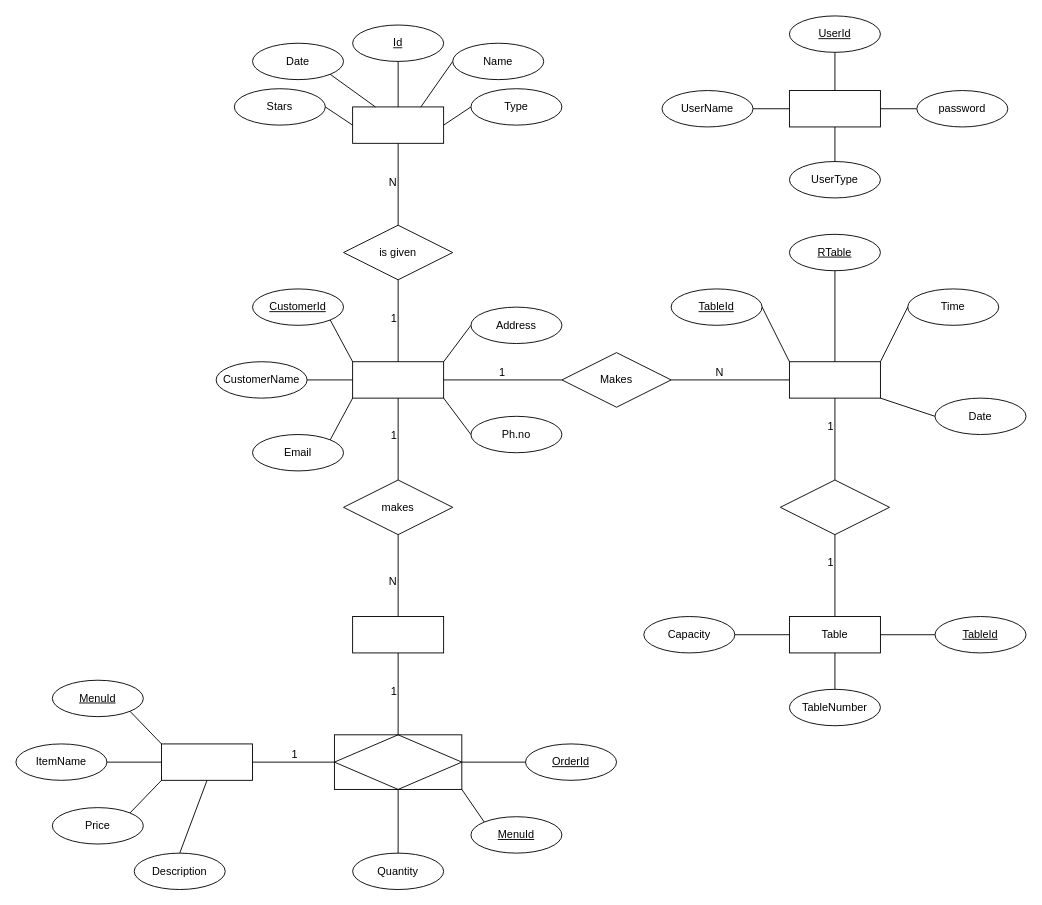
The diagram is 1042 pixels wide and 905 high, and some of its shapes have lost their labels. The centre of each missing label's shape, as x and y in pixels:
Customer: the point at 398,379
has: the point at 834,507
Menu: the point at 207,761
Order: the point at 398,634
OrderItems: the point at 398,761
Ratings & Reviews: the point at 398,124
Reservation: the point at 834,379
User: the point at 834,108
